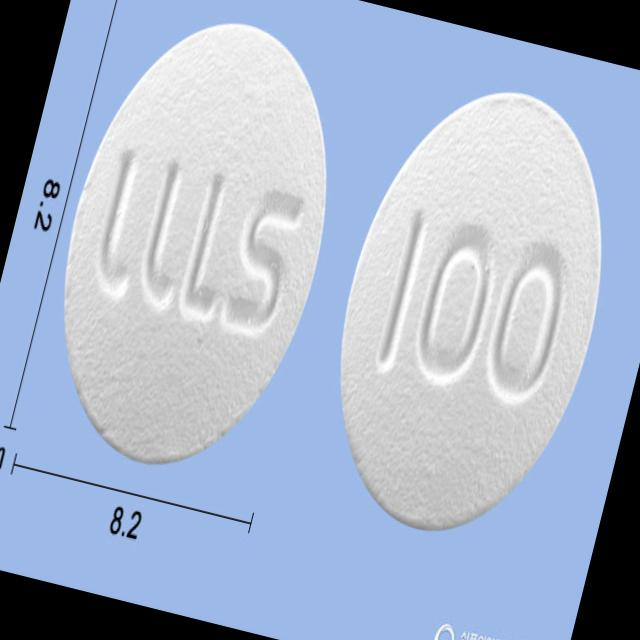Highloxin - 500mg: (19, 0, 371, 491), (297, 60, 640, 559)
